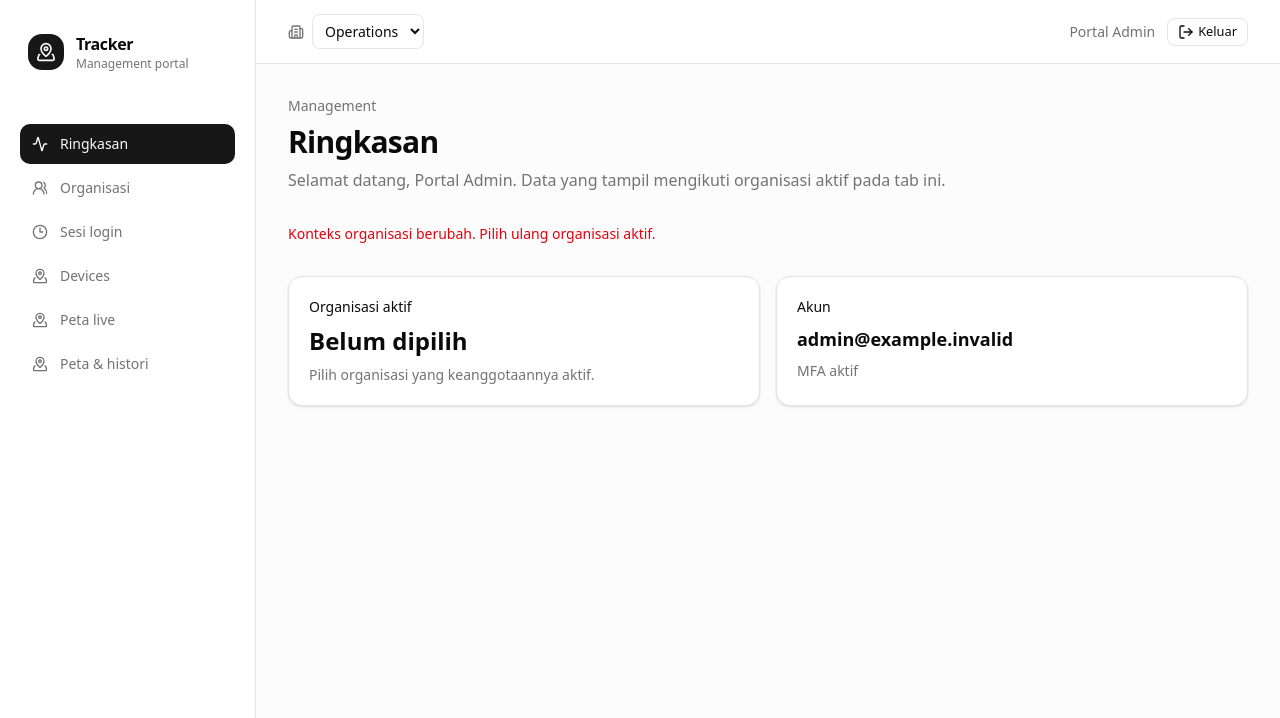
Test: tracking management portal › lists credential metadata only and requires recent authentication to revoke one
Click the link "Devices" at (71, 276), box left=32, top=266, right=110, bottom=285
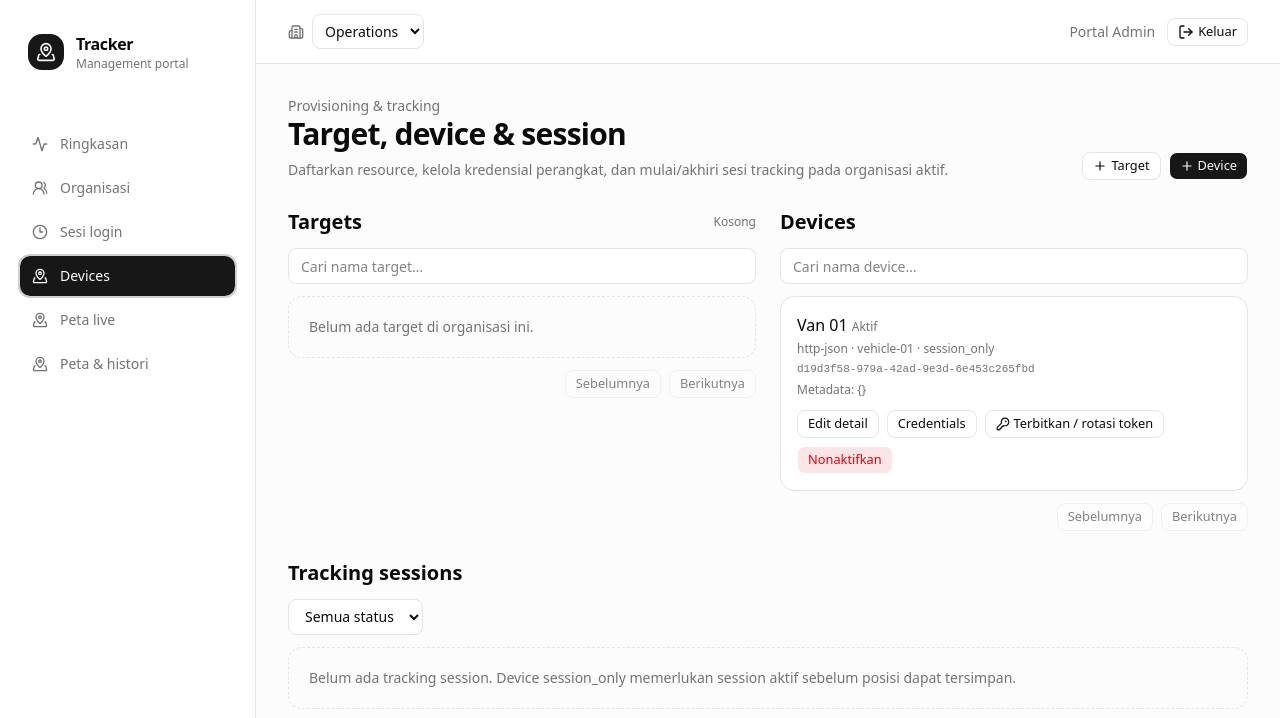
Click the button "Credentials" at (932, 424), box left=887, top=410, right=977, bottom=438
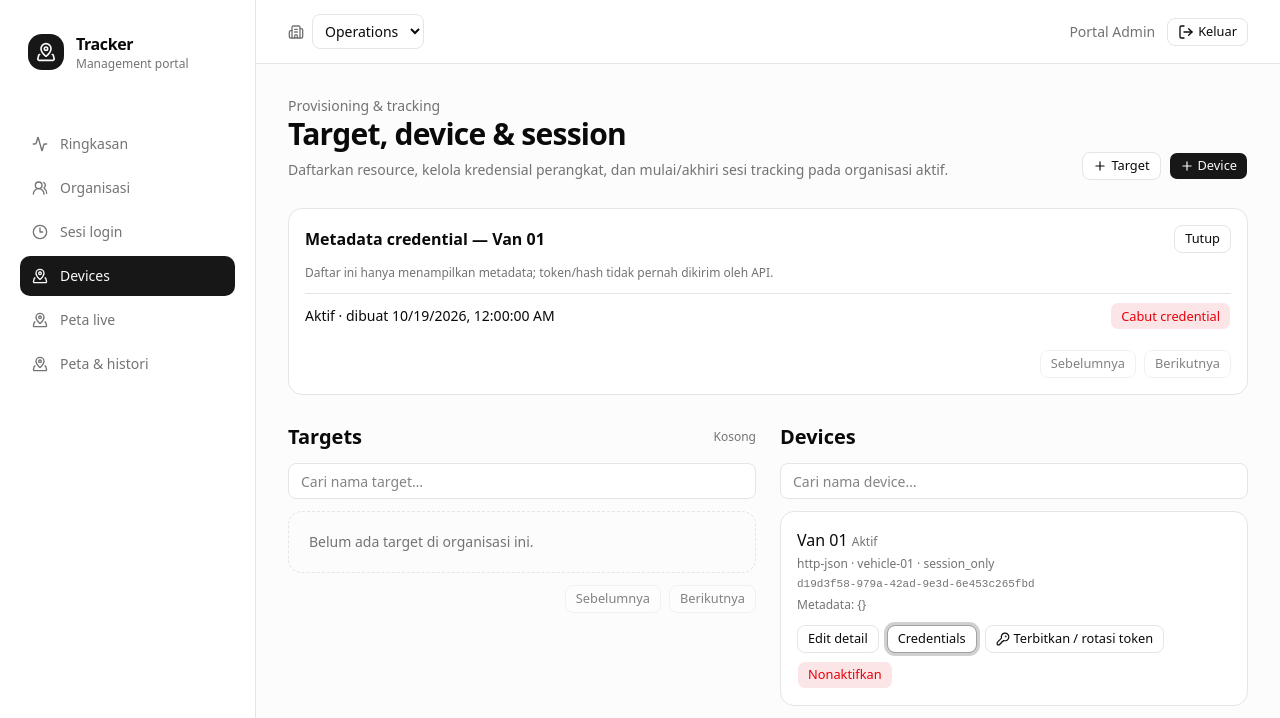
Expected: the text "Aktif · dibuat 10/19/2026, 12:00:00 AM" is shown, left=305, top=306, right=555, bottom=326
Click the button "Cabut credential" at (1171, 316), box left=1110, top=302, right=1231, bottom=330
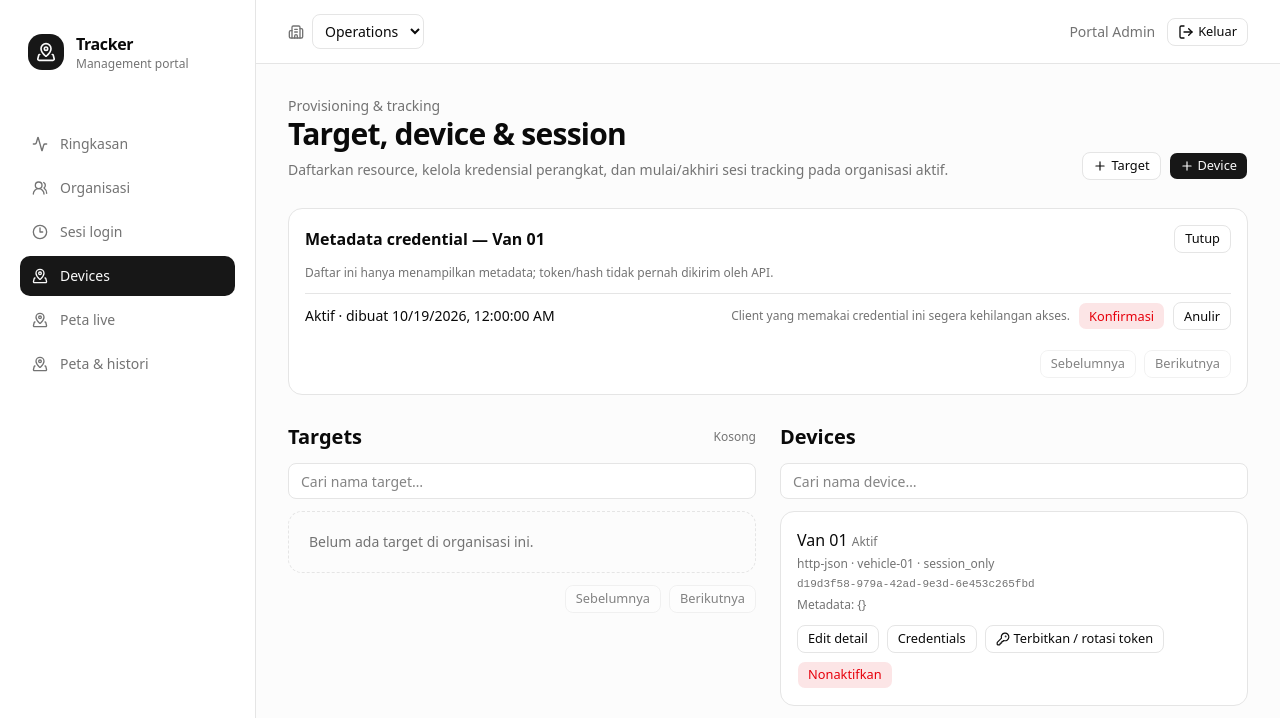
Click the button "Konfirmasi" at (1122, 316), box left=1078, top=302, right=1165, bottom=330
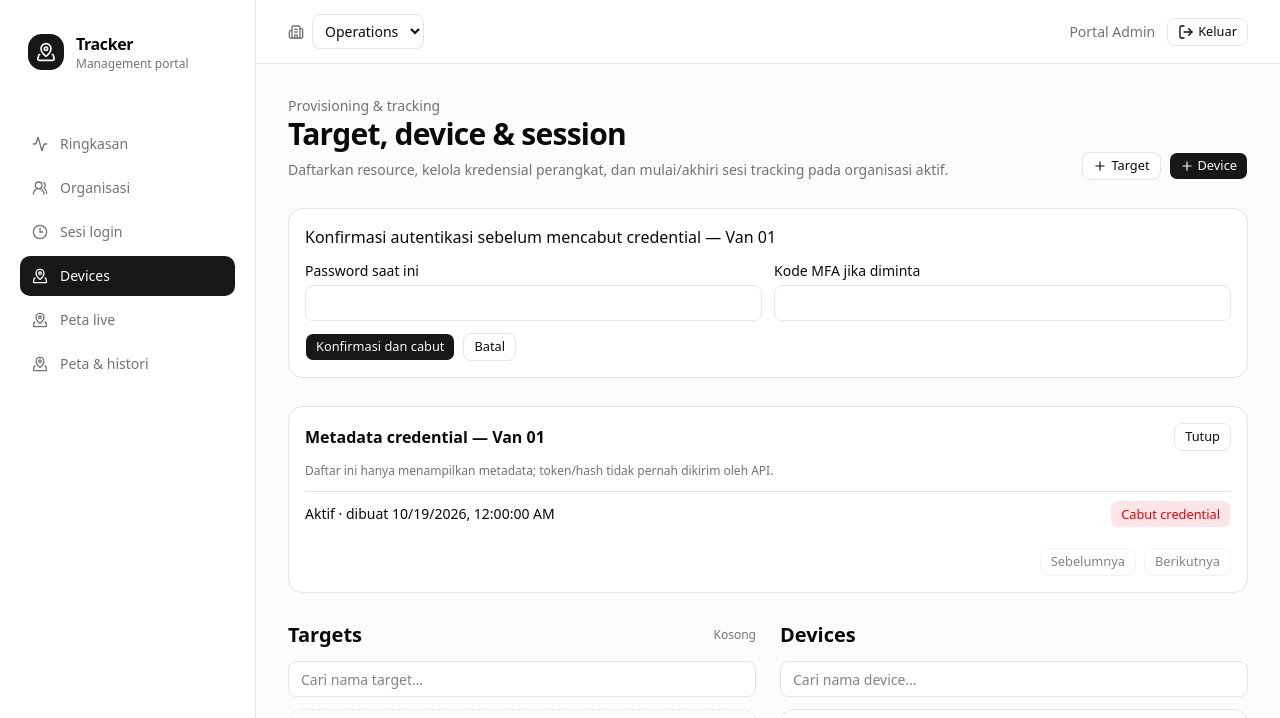
Type "synthetic long password" into the password field labelled "Password saat ini" at (534, 303), box left=305, top=285, right=762, bottom=321
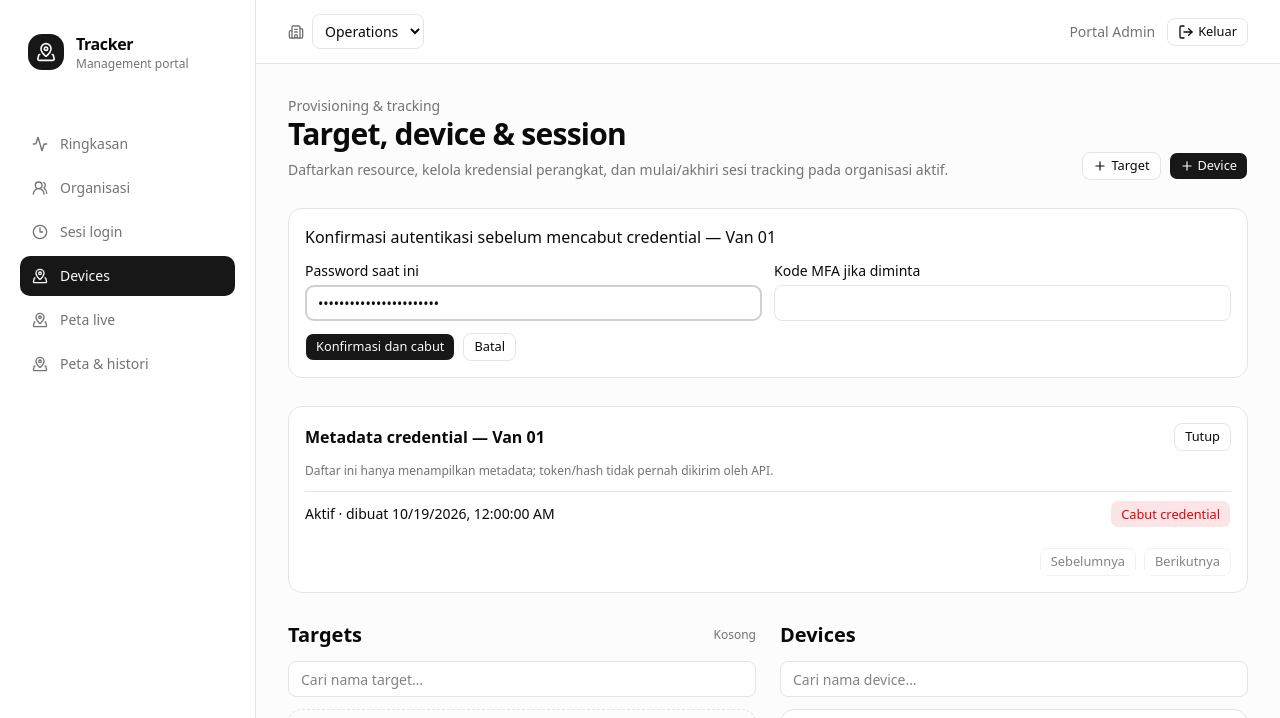
Click the button "Konfirmasi dan cabut" at (380, 347), box left=305, top=333, right=456, bottom=361
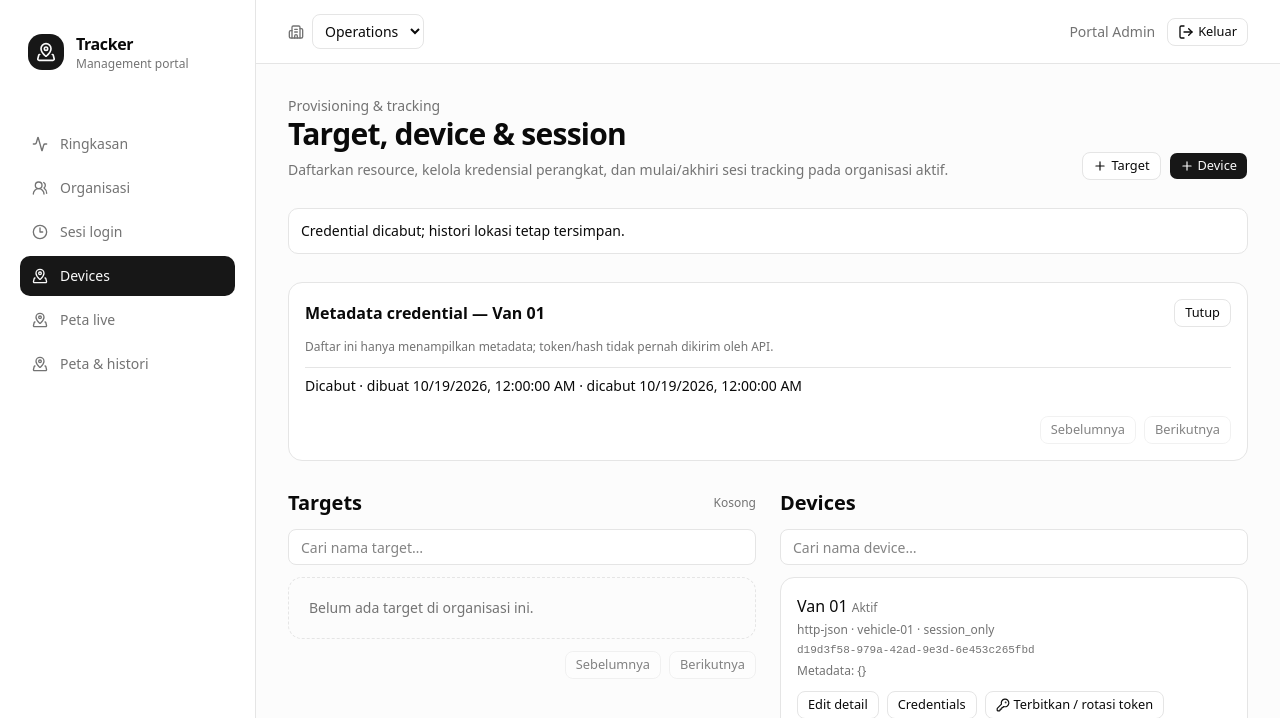
Expected: the text "Dicabut · dibuat" is shown, left=305, top=376, right=802, bottom=396
